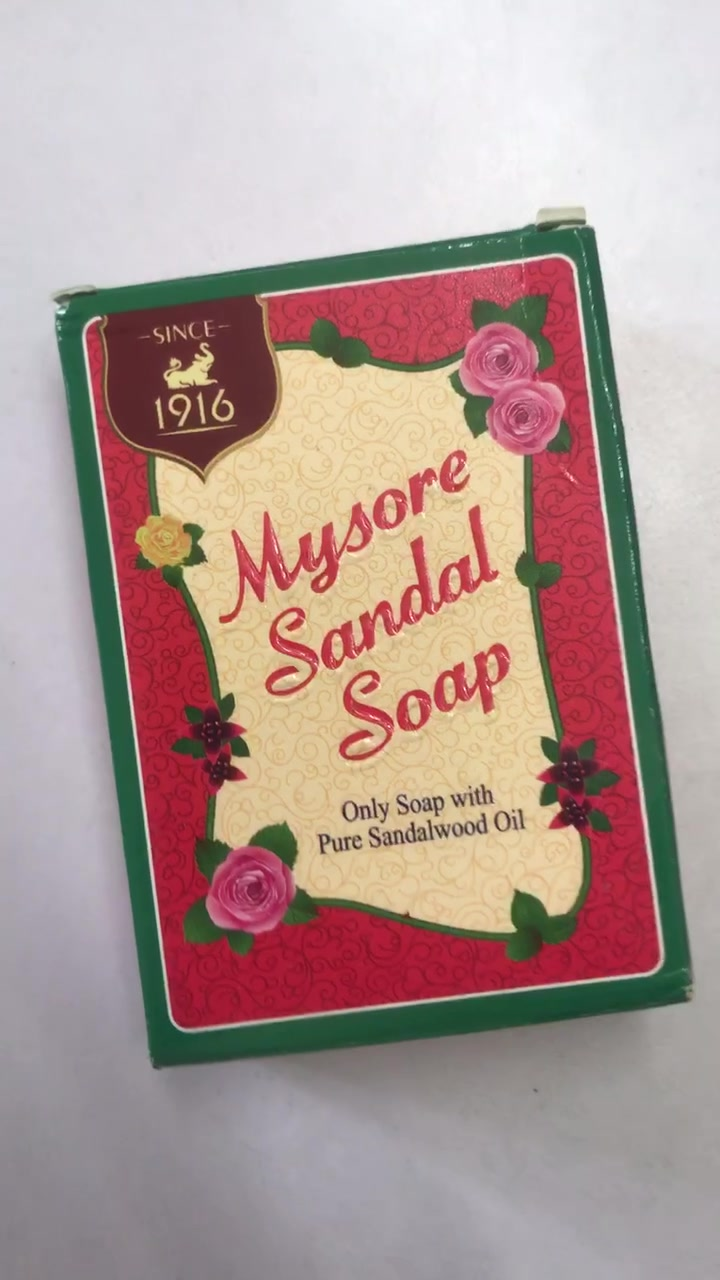mysore sandal soap: (63, 282, 696, 1042)
